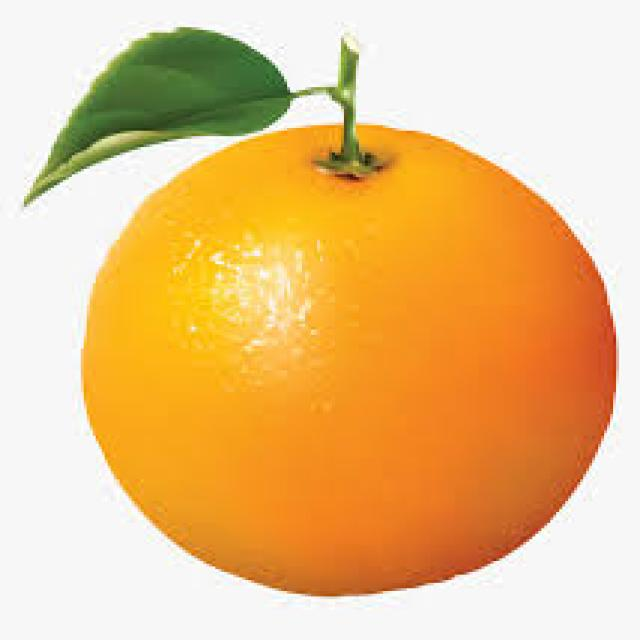orange: (85, 128, 624, 594)
